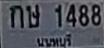1: (55, 4, 62, 27)
4: (66, 3, 77, 26)
8: (79, 4, 89, 26), (92, 3, 101, 25)
A01: (9, 5, 24, 28)
A39: (26, 4, 40, 28)
